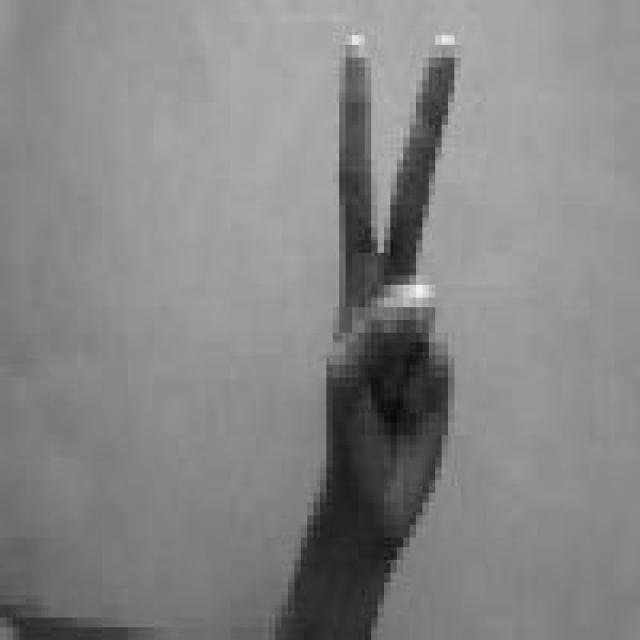V: (306, 32, 475, 566)
